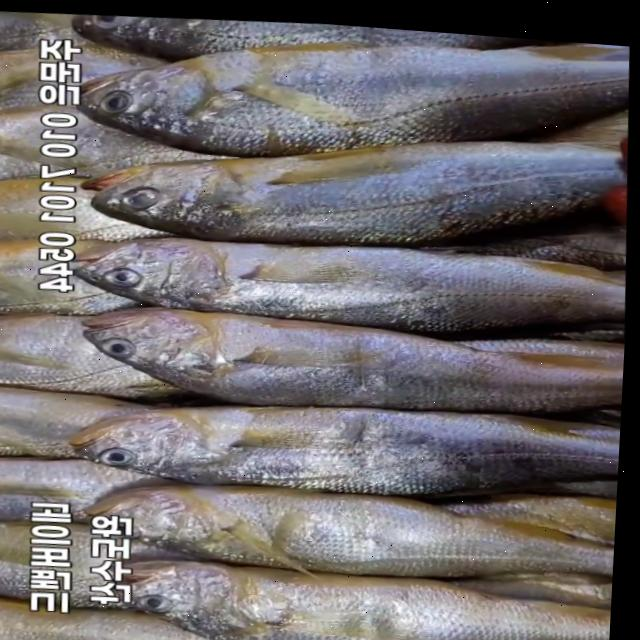Wet: (71, 15, 633, 180), (73, 101, 633, 266), (78, 284, 629, 427), (71, 212, 631, 348), (70, 375, 625, 511), (78, 460, 622, 590), (117, 537, 618, 640)
